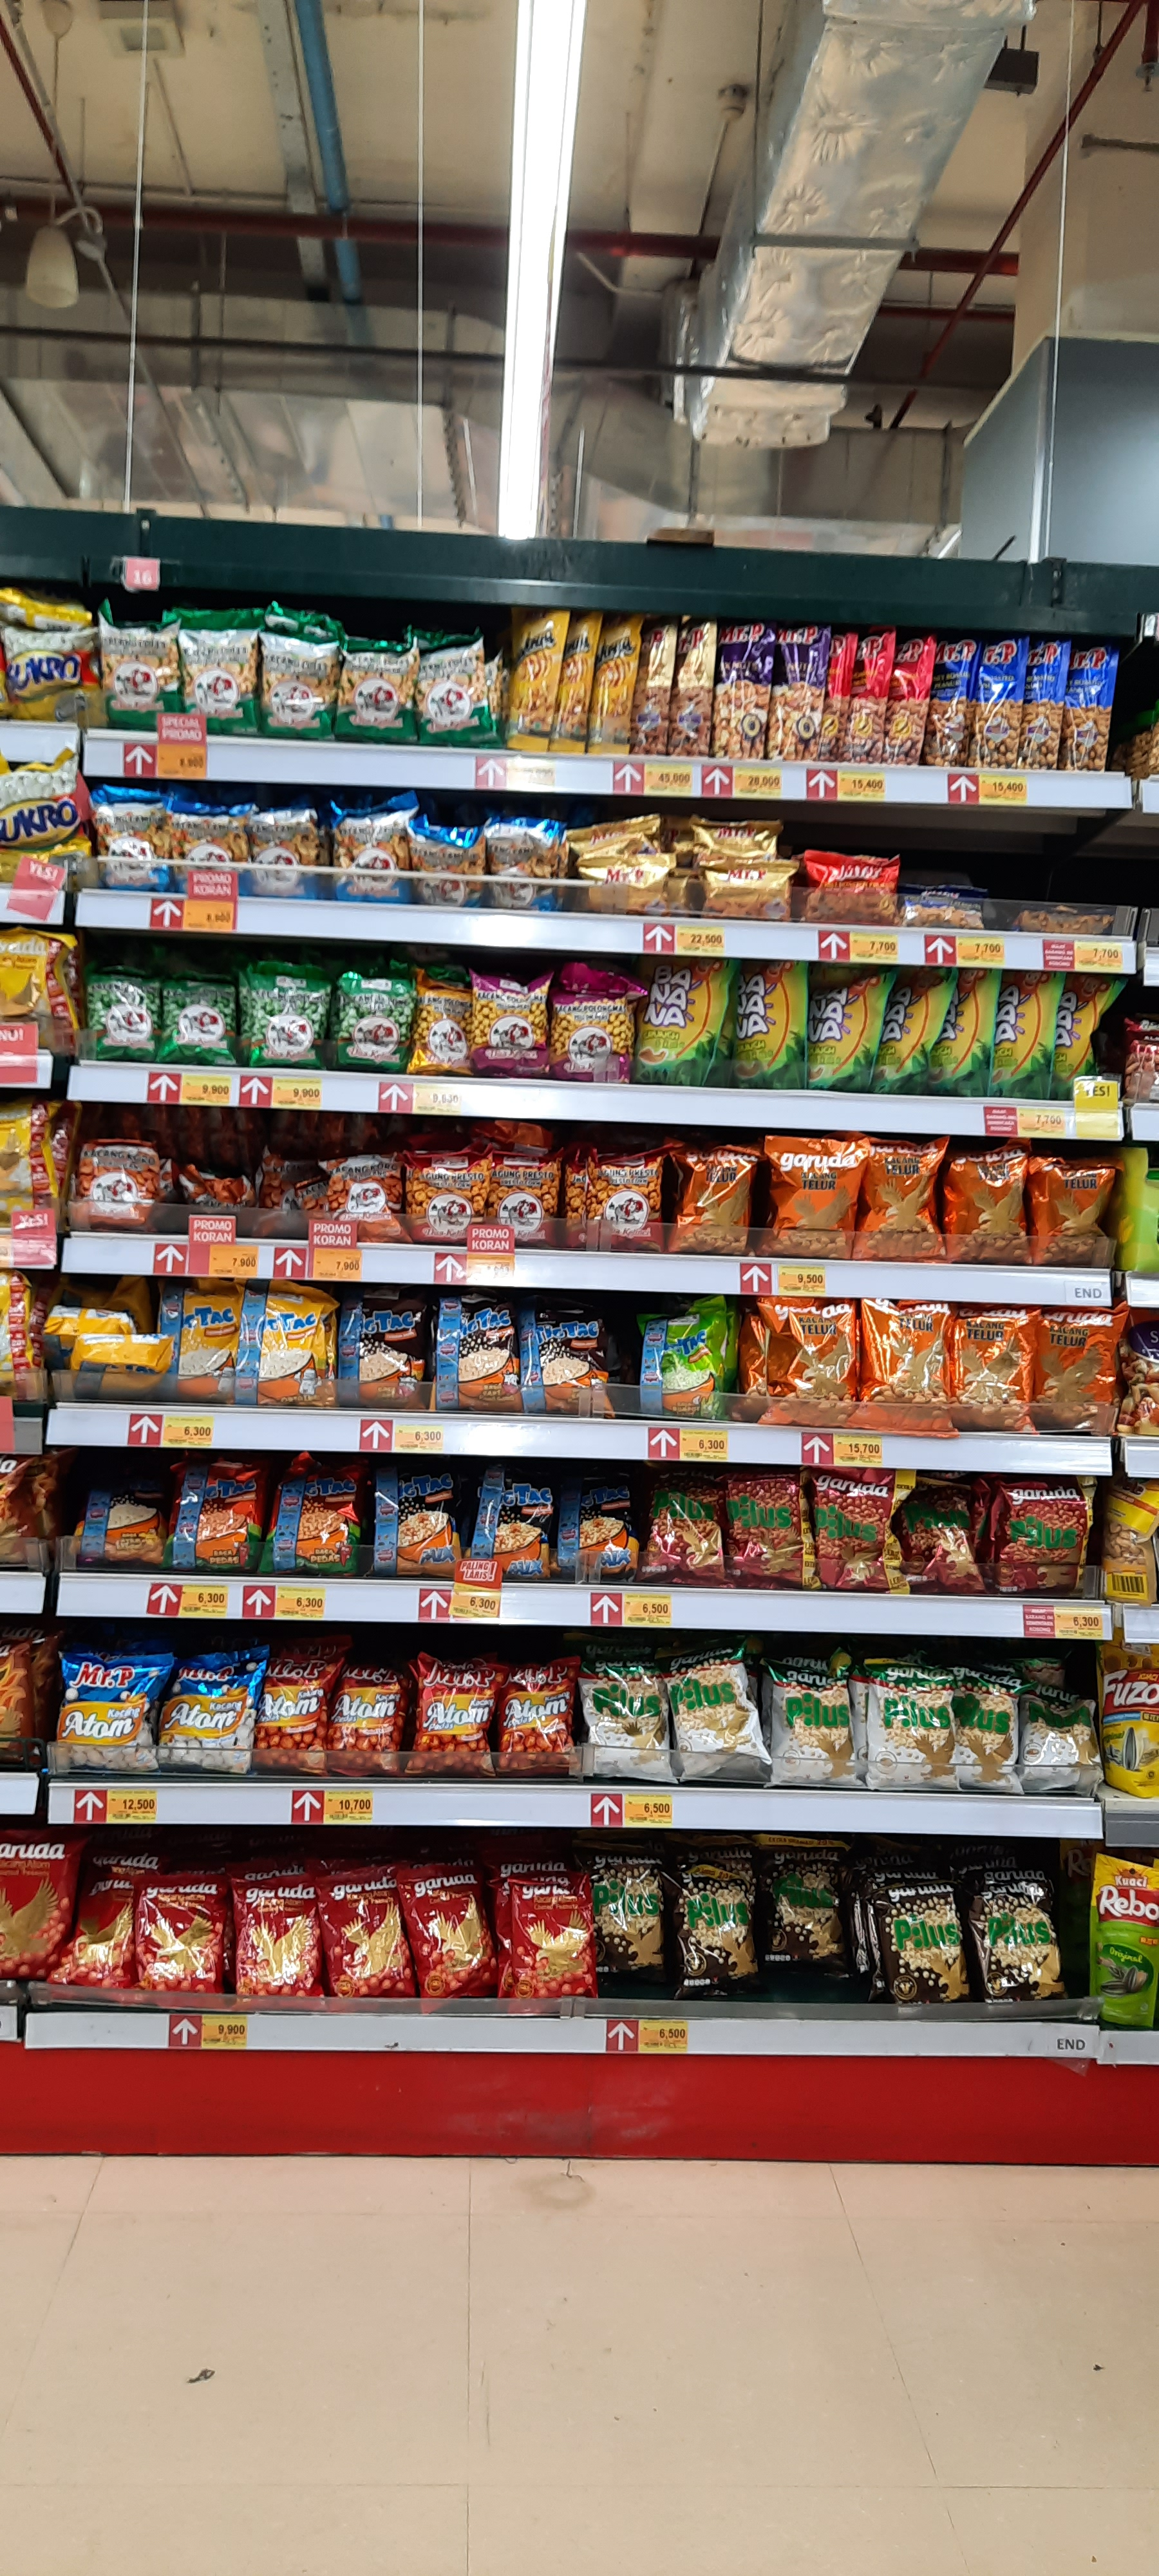90101111302100/Atom Pedas Garuda -100g: (236, 1876, 330, 2011), (141, 1873, 235, 2006), (323, 1870, 410, 2006), (501, 1870, 588, 2006), (405, 1866, 492, 2001)
90101111701100/Telur Garuda -220g: (852, 1299, 952, 1431), (763, 1293, 862, 1426), (1034, 1303, 1126, 1437), (949, 1301, 1039, 1434)
90101111702100/Telur Garuda -110g: (763, 1132, 867, 1265), (859, 1138, 951, 1262), (668, 1140, 760, 1255), (944, 1142, 1028, 1267), (1031, 1158, 1123, 1270)
90101151201100/Pilus Garuda Premium Pedas 80 + 16 g: (992, 1475, 1090, 1598), (816, 1470, 913, 1592), (721, 1477, 821, 1589), (644, 1477, 722, 1589)
90101151402100/Snack Pilus Sapi Panggang 80 + 16 g: (975, 1860, 1067, 2019), (763, 1837, 855, 1994), (873, 1883, 969, 2024), (589, 1843, 670, 1999), (675, 1842, 755, 1998)
90101151604100/Garuda Pilus Mi Goreng 80 + 16 G: (860, 1658, 962, 1796), (762, 1648, 864, 1786), (575, 1648, 675, 1786), (670, 1646, 770, 1784), (1021, 1658, 1097, 1794), (954, 1658, 1021, 1794)
KacangDuaKelinciAyamBawang: (471, 973, 550, 1076), (553, 987, 634, 1084)
KacangDuaKelinciBawang: (102, 624, 179, 728), (341, 636, 412, 739), (259, 632, 328, 736), (182, 628, 251, 731), (430, 636, 496, 739)
KacangDuaKelinciBbq: (405, 991, 473, 1071)
KacangDuaKelinciMixNut: (90, 802, 164, 892), (251, 808, 325, 899), (337, 805, 410, 895), (174, 802, 246, 894), (412, 821, 479, 907), (486, 821, 553, 907)
KacangDuaKelinciPedas: (584, 1148, 663, 1250), (494, 1150, 573, 1252), (405, 1142, 484, 1244), (77, 1142, 156, 1227), (320, 1157, 397, 1242)
KacangDuaKelinciPolong: (338, 981, 414, 1065), (87, 977, 161, 1063), (163, 977, 236, 1063), (248, 976, 322, 1061)
Mr.pKacangAtomPedas: (499, 1658, 578, 1773), (422, 1656, 501, 1771), (328, 1653, 407, 1768), (254, 1656, 333, 1771)
Mr.pKacangOriginal: (56, 1653, 164, 1776), (151, 1648, 259, 1771)
TicTacBbq: (517, 1306, 619, 1419), (433, 1295, 524, 1413), (341, 1286, 432, 1405)
TicTacMix: (470, 1474, 552, 1584), (552, 1474, 634, 1584), (376, 1470, 458, 1580)
TicTacOriginal: (236, 1288, 337, 1408), (158, 1286, 238, 1400)
TicTacPedas: (256, 1464, 368, 1572), (169, 1462, 258, 1577)
TicTacSeaWeed: (639, 1309, 727, 1415)
